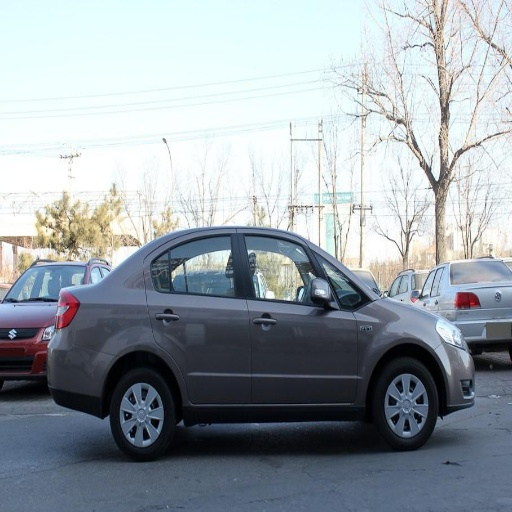back_right_door: (145, 231, 251, 405)
front_right_door: (241, 232, 356, 402)
